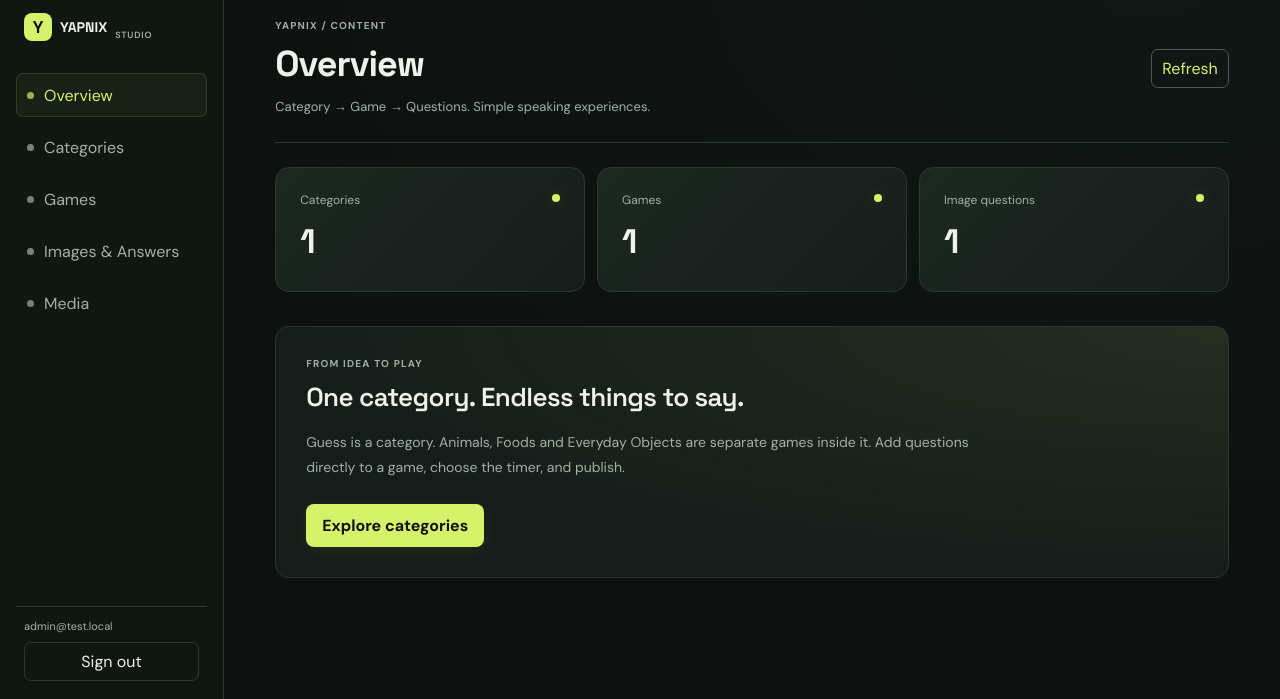
category and standalone game workflows › removes a published game image, can discard the change, and saves removal as a draft
Click the button "Games" at (112, 199), box left=16, top=177, right=207, bottom=221
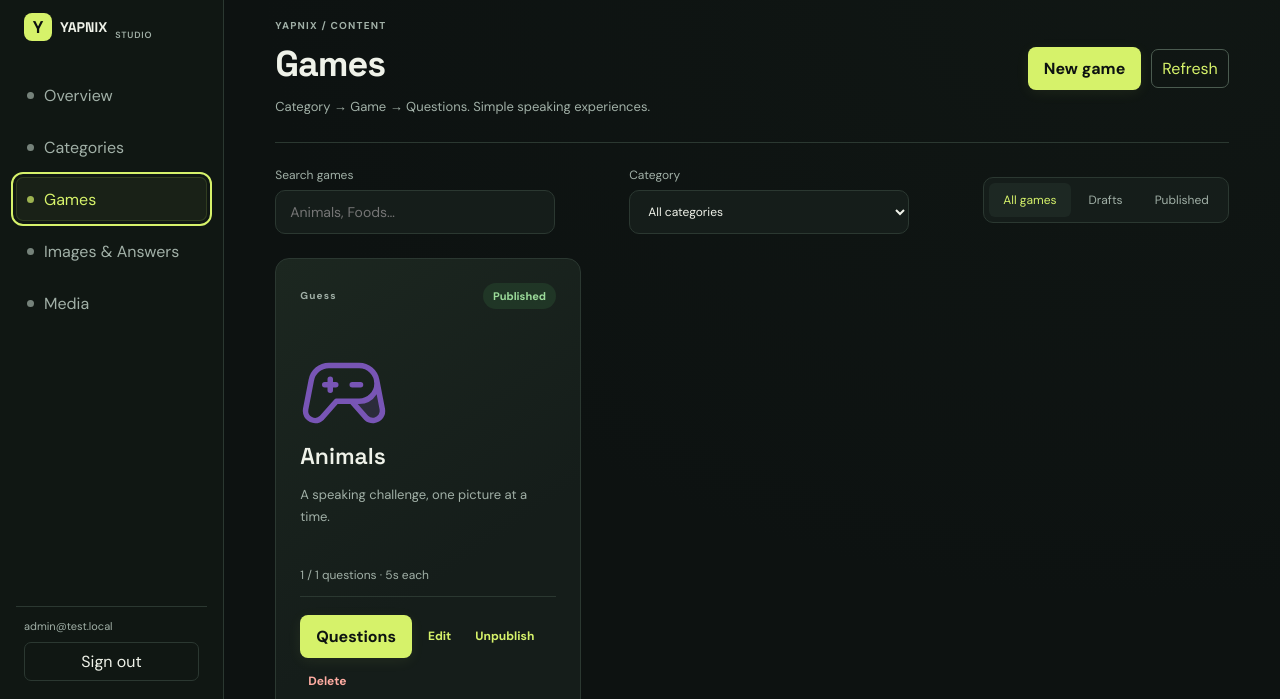
Result: the heading "Animals" is shown at left=300, top=441, right=386, bottom=471
Click the button "Questions" at (356, 636), box left=300, top=615, right=412, bottom=658
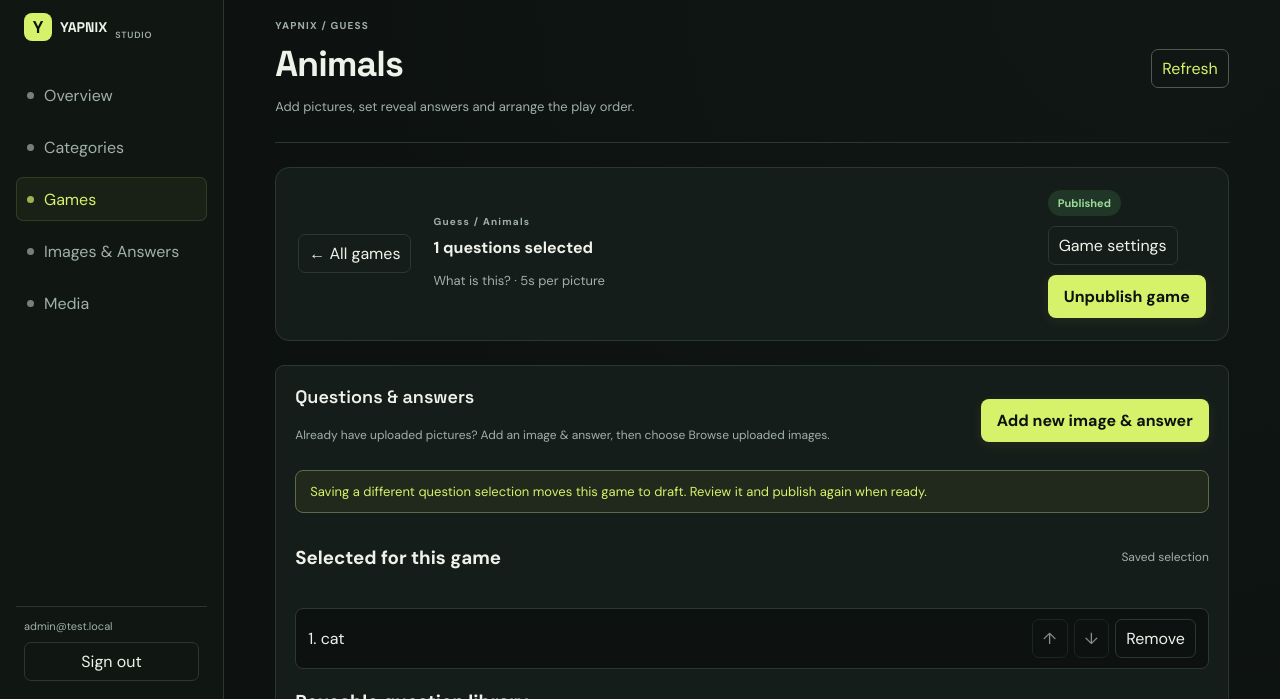
Click the button with aria-label "Remove image 1" at (1156, 639), box left=1115, top=619, right=1196, bottom=658
(page scrolled)
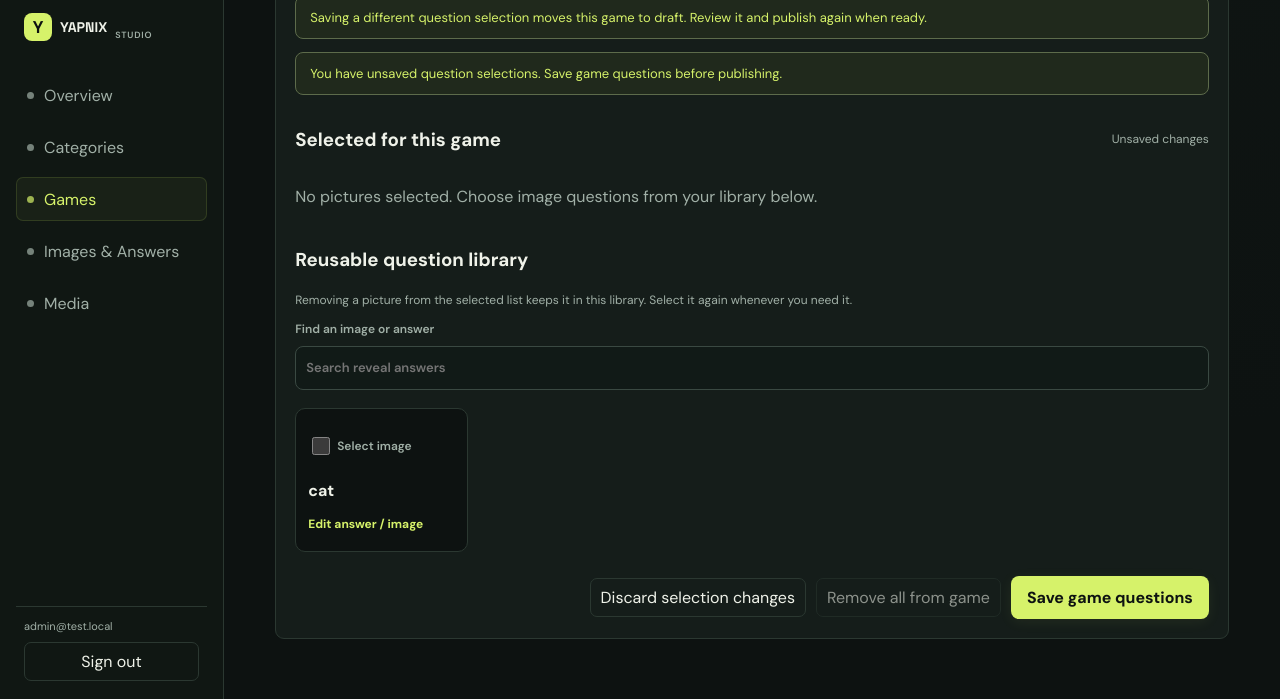
Result: the checkbox named "Use cat" is not checked at left=312, top=424, right=330, bottom=468
Click the button "Discard selection changes" at (698, 598), box left=590, top=578, right=806, bottom=617
(page scrolled)
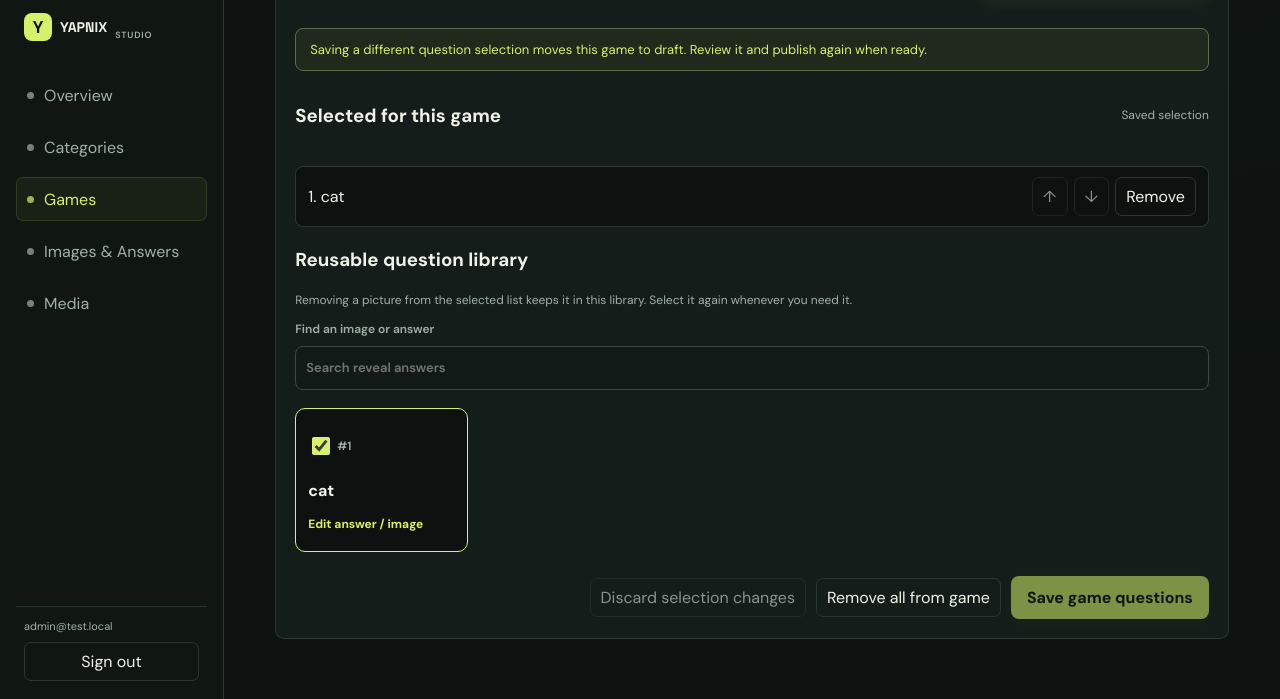
Result: the checkbox named "Use cat" is checked at left=312, top=424, right=330, bottom=468
Click the button with aria-label "Remove image 1" at (1156, 197), box left=1115, top=177, right=1196, bottom=216
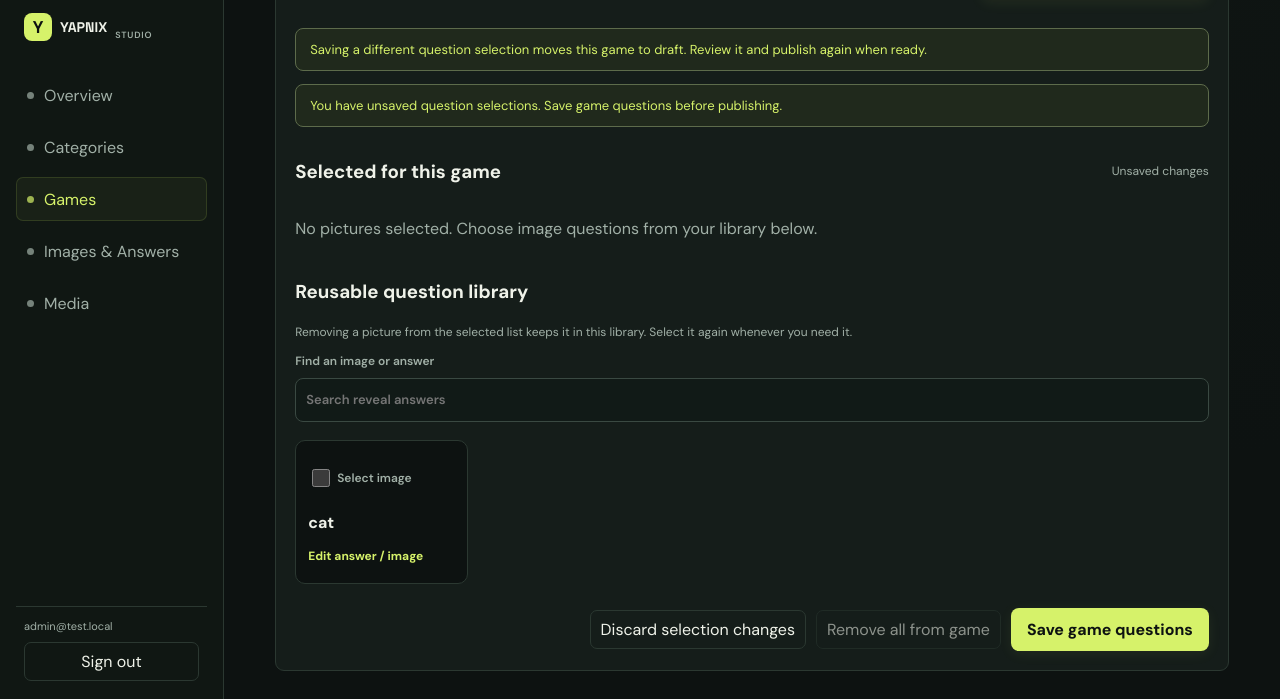
Click the button "Save game questions" at (1110, 630), box left=1011, top=608, right=1209, bottom=651
(page scrolled)
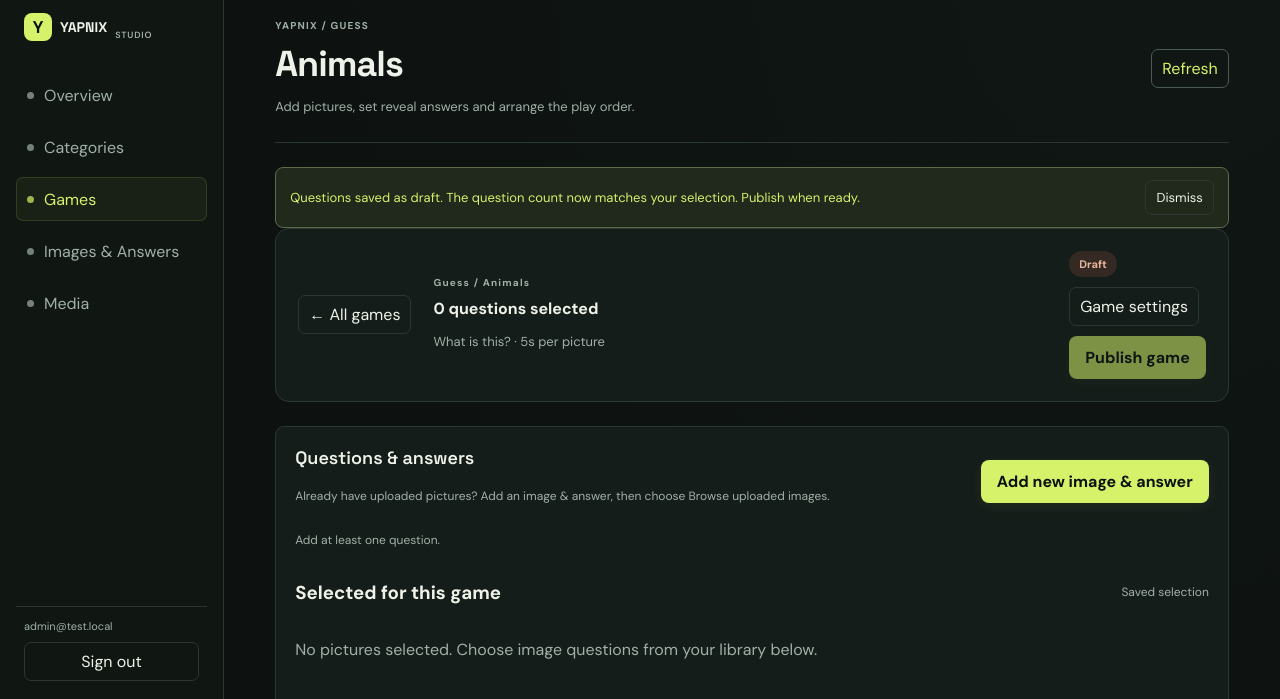
Result: the text "Questions saved as draft" is shown at left=290, top=189, right=860, bottom=206
Result: the text "Draft" is shown at left=1069, top=251, right=1117, bottom=277
